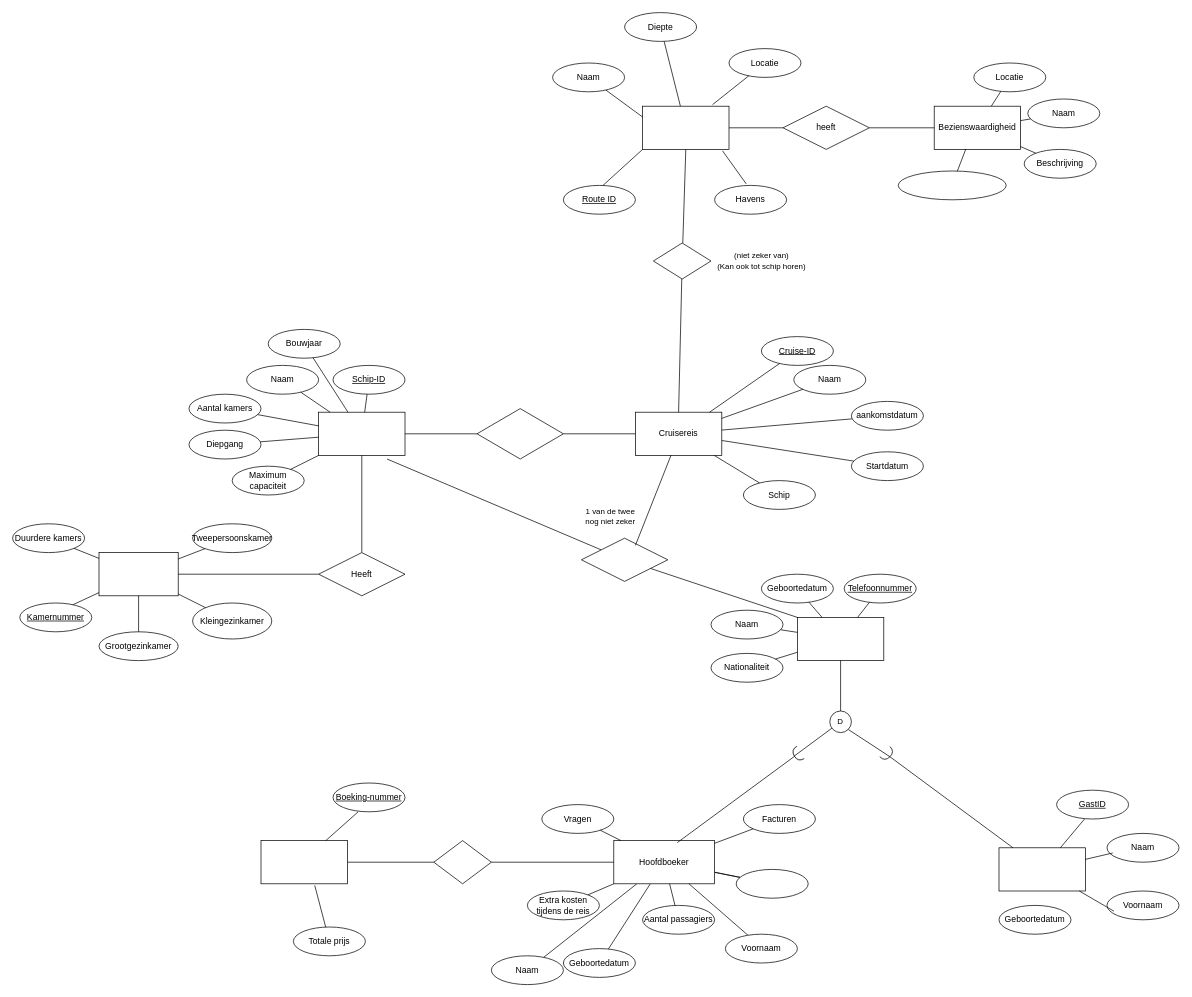
Image size: 1192x997. Some labels were removed from this diagram. The shapes that lost their labels are listed below. From the top down, each one's centre as x and y in pixels, then its label:
At point (685, 127): "Vaarroute".
At point (951, 185): "BezienswaardigheidID".
At point (682, 260): "vaart deze".
At point (361, 433): "Cruiseschip".
At point (519, 433): "Vaart".
At point (138, 574): "Kamertypes".
At point (624, 559): "Behoort tot".
At point (840, 639): "Passagier".
At point (303, 862): "Boeking".
At point (462, 862): "Boekt".
At point (1041, 869): "Gast".
At point (771, 883): "Prijs".
